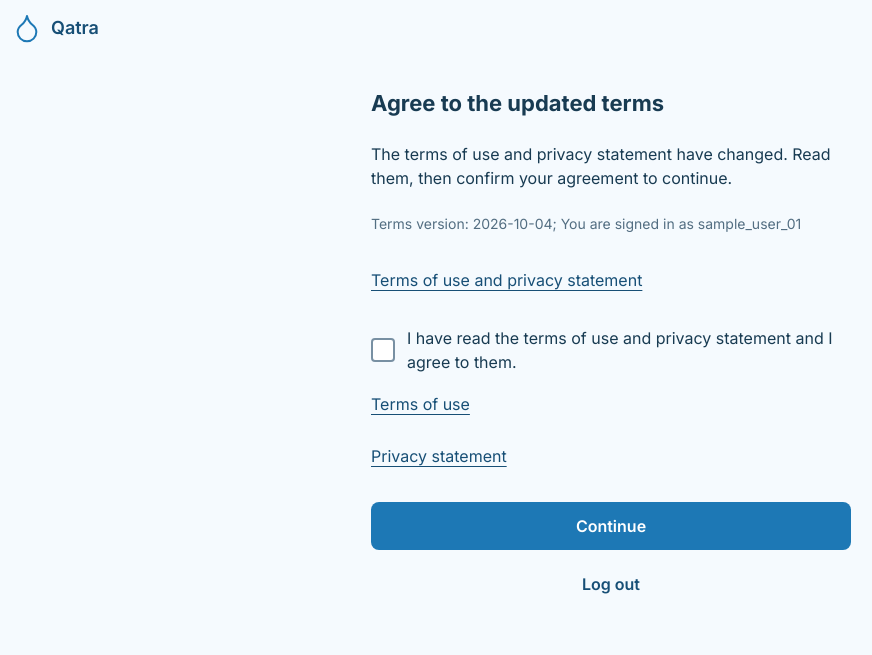
S-06 in English › is worded in English, left to right, and keeps the same order
Expected: the heading "Agree to the updated terms" is shown, x1=371 y1=90 x2=664 y2=116
Expected: the text "The terms of use and privacy statement have changed. Read them, then confirm your agreement to continue." is shown, x1=371 y1=144 x2=831 y2=188
Click the button "Continue". click: (611, 526)
box: x1=371 y1=502 x2=851 y2=550
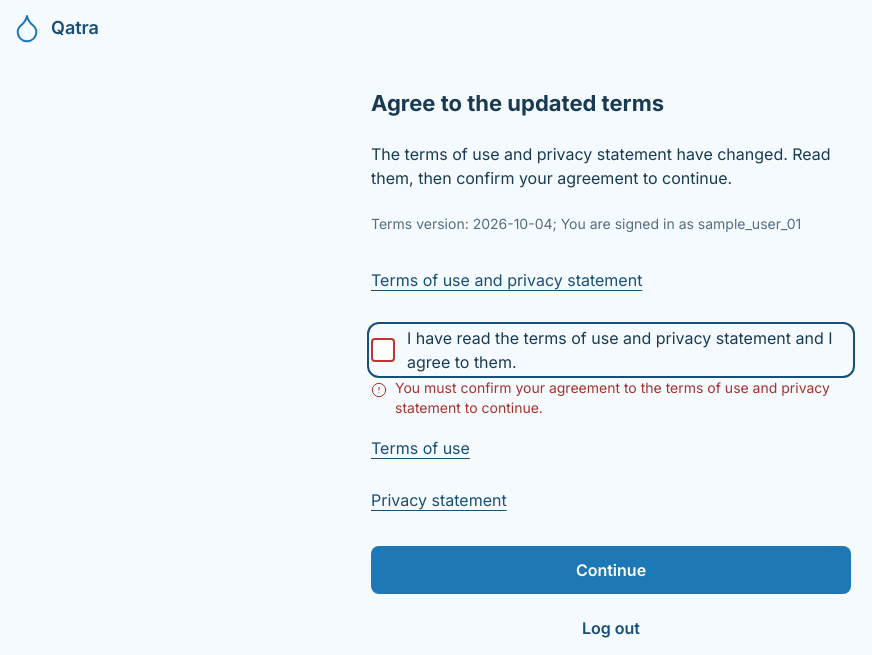
Now the text "You must confirm your agreement to the terms of use and privacy statement to continue." is shown, box x1=395 y1=379 x2=830 y2=416
